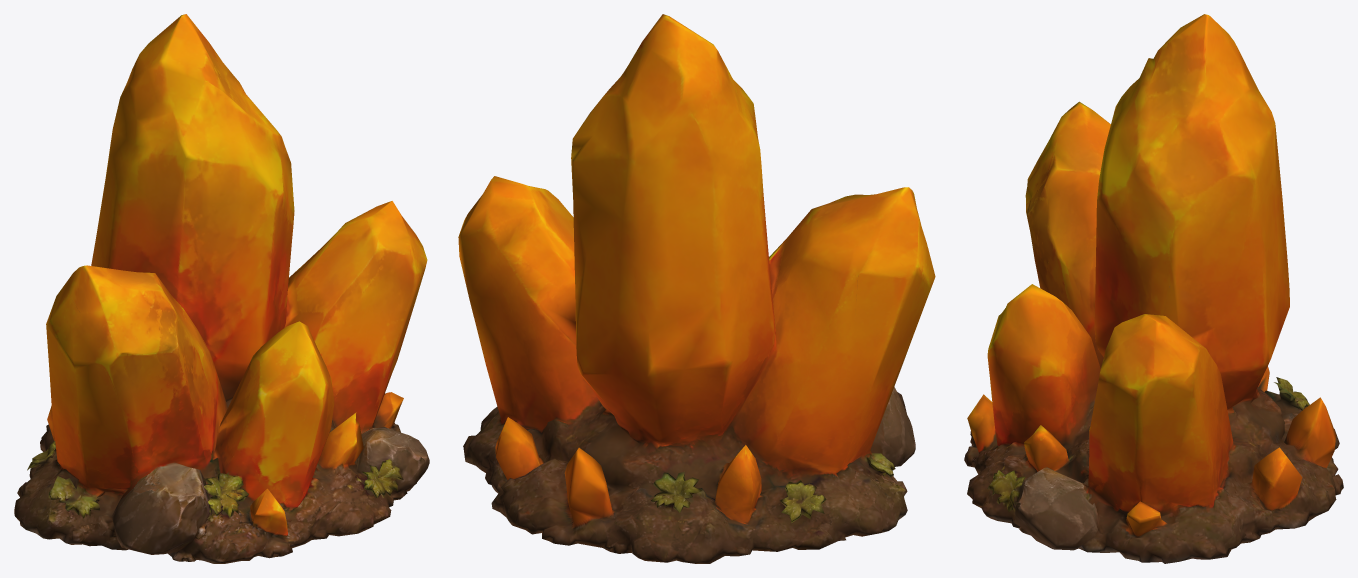
The picture shows the model from 3 angles, left to right: view 1: azimuth 30°, elevation 25°; view 2: azimuth 150°, elevation 25°; view 3: azimuth 270°, elevation 25°; orthographic projection. The views are drawn at different scales.
Visible parts, largest first — view 1: amber_crystal_3_painted; view 2: amber_crystal_3_painted; view 3: amber_crystal_3_painted.
Part boxes in pixels (x1=…): amber_crystal_3_painted: x1=14, y1=14, x2=429, y2=563; amber_crystal_3_painted: x1=458, y1=14, x2=935, y2=563; amber_crystal_3_painted: x1=964, y1=14, x2=1343, y2=563.
Size of the model in its own units: 6.6 by 7.16 by 5.4.
1 material, 1 textured.
